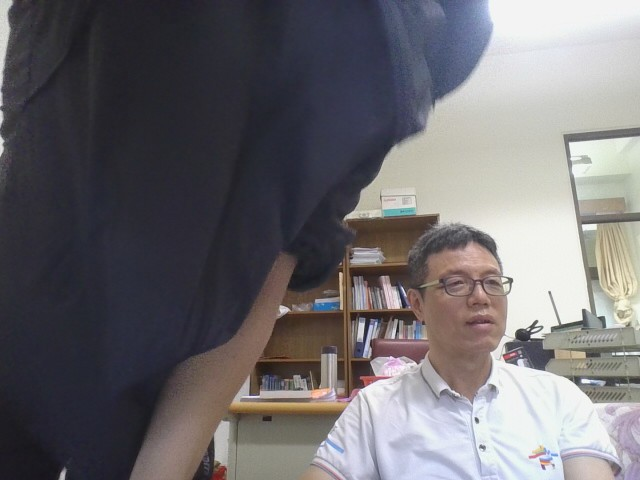No_Helmet: (401, 218, 517, 385)
person: (0, 0, 461, 479), (231, 196, 639, 480)
